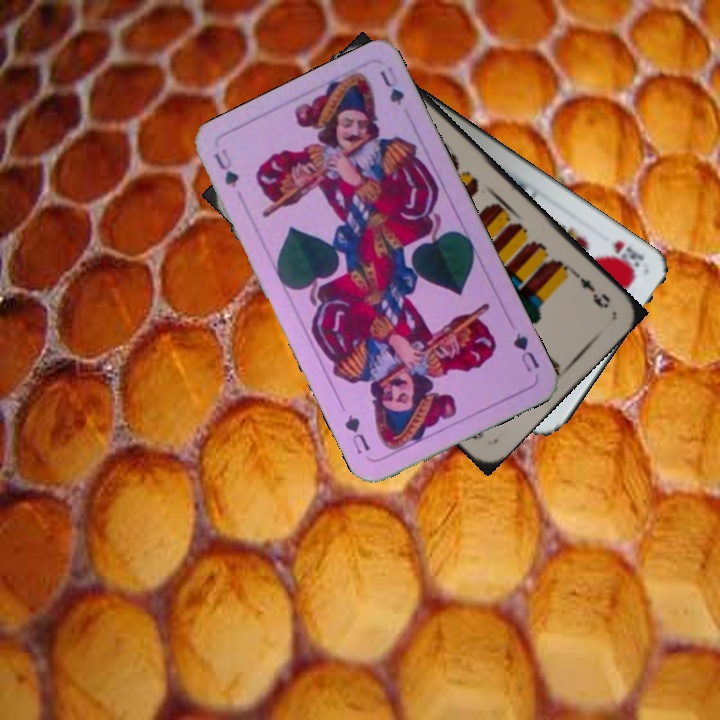E9: (568, 266, 613, 311)
GU: (508, 328, 543, 375), (209, 145, 242, 190)
HK: (607, 236, 647, 274)
